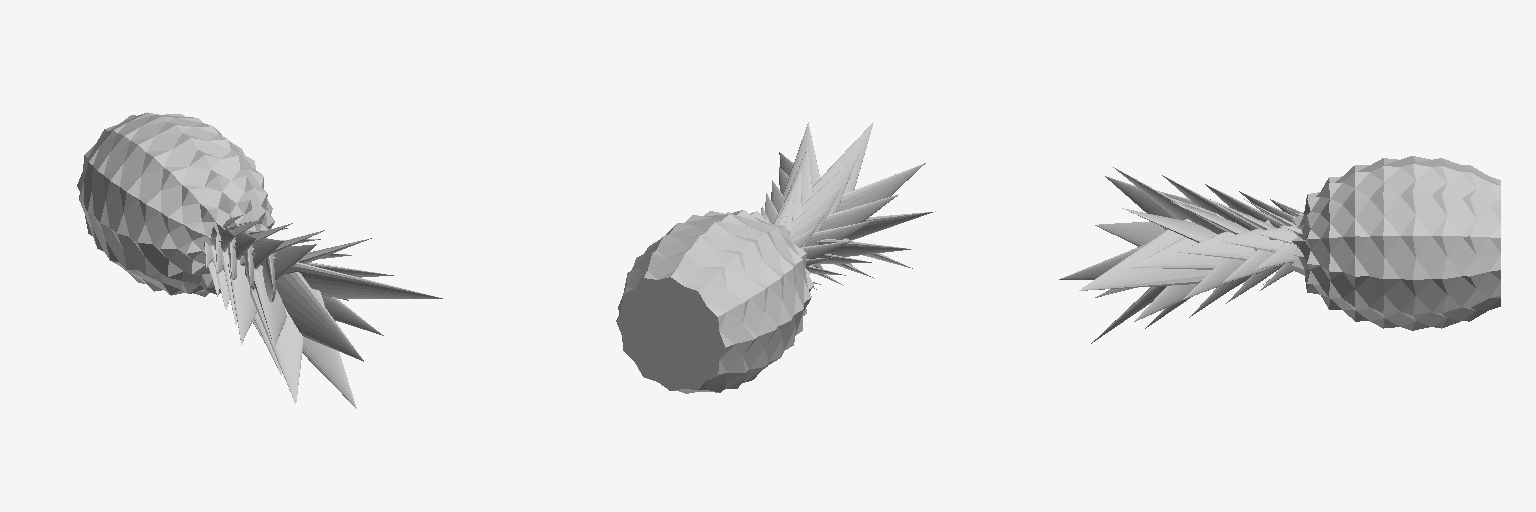
The model's file is pineapple.obj.
The picture shows the model from 3 angles: view 1: azimuth 30°, elevation 25°; view 2: azimuth 150°, elevation 25°; view 3: azimuth 270°, elevation 25°; orthographic projection.
Size of the model in its own units: 49.08 by 44.84 by 105.